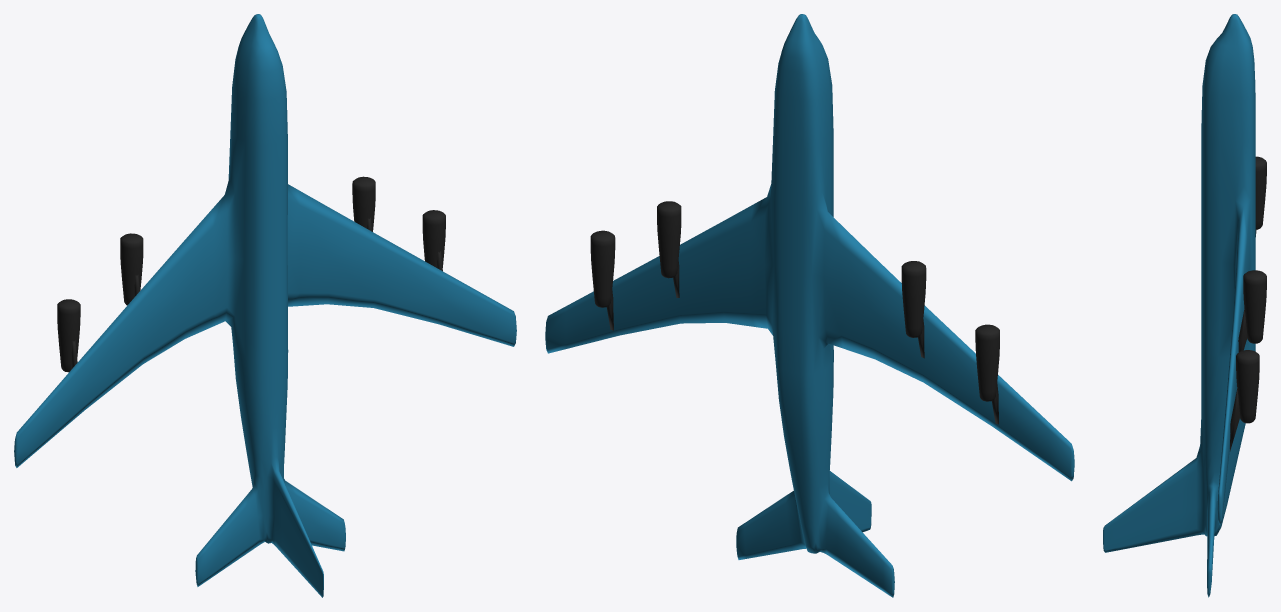
3 views of the same model, side by side, from view 1: azimuth 30°, elevation 25°; view 2: azimuth 150°, elevation 25°; view 3: azimuth 270°, elevation 25° (orthographic). The views are drawn at different scales.
Parts seen in each view (by area): view 1: Cube_Cube.001_PlaneMat, Cube_Cube.001_TurbineMat; view 2: Cube_Cube.001_PlaneMat, Cube_Cube.001_TurbineMat; view 3: Cube_Cube.001_PlaneMat, Cube_Cube.001_TurbineMat.
Part boxes in pixels (<box>): Cube_Cube.001_PlaneMat: <box>14,14,516,597</box>; Cube_Cube.001_TurbineMat: <box>57,176,445,372</box>; Cube_Cube.001_PlaneMat: <box>545,14,1074,597</box>; Cube_Cube.001_TurbineMat: <box>590,201,999,424</box>; Cube_Cube.001_PlaneMat: <box>1103,14,1255,597</box>; Cube_Cube.001_TurbineMat: <box>1230,156,1266,451</box>.
Size of the model in its own units: 4.1 by 4.26 by 1.15.
